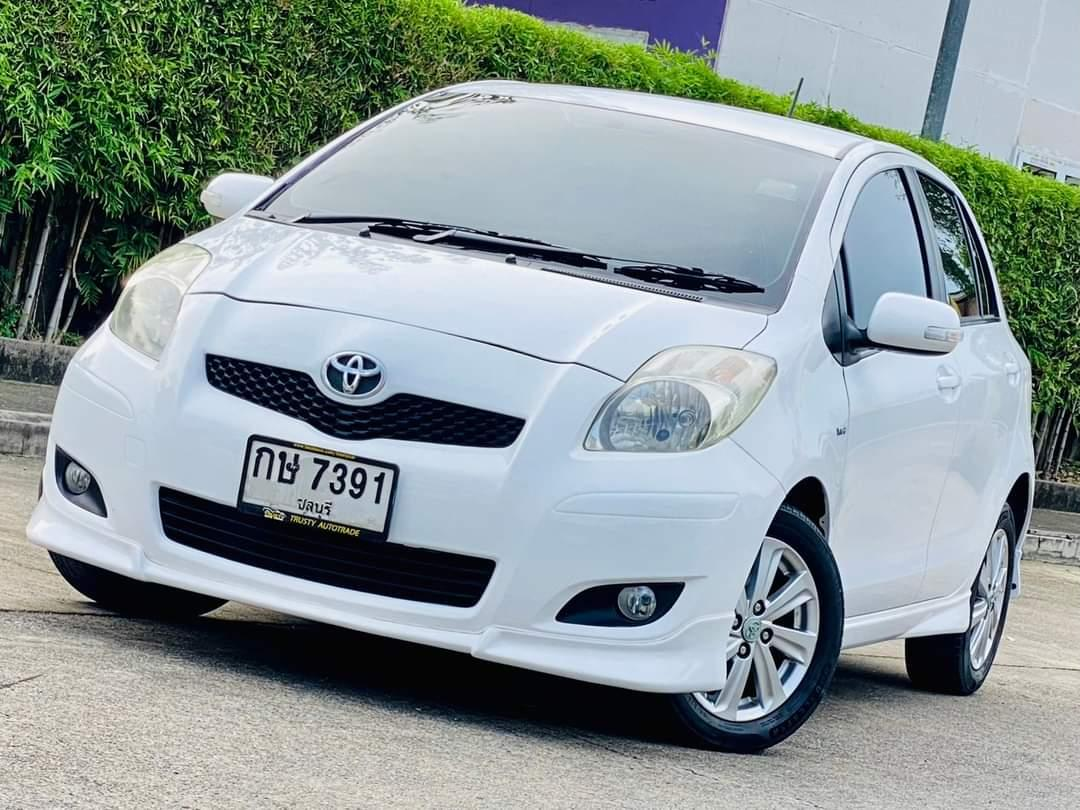license-plate: (229, 428, 402, 553)
